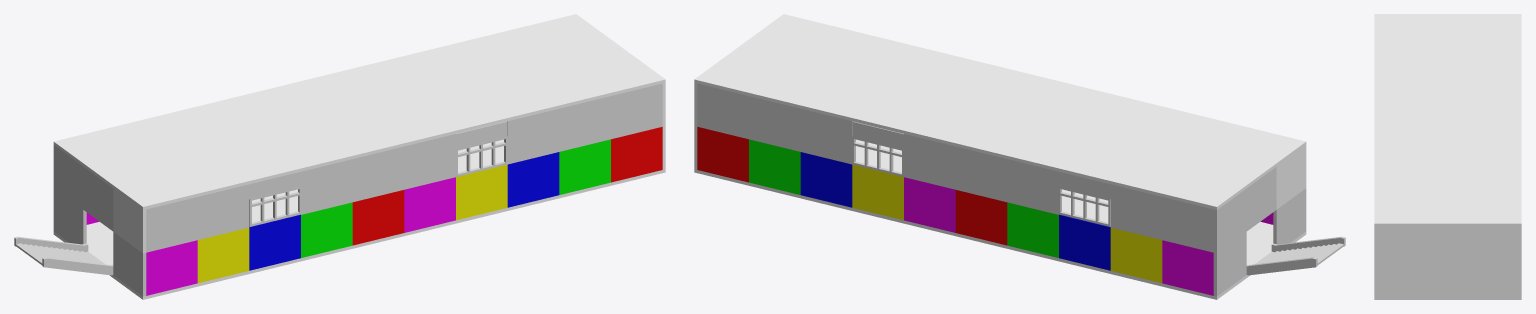
The model's file is corridor.gltf.
3 views of the same model, side by side, from view 1: azimuth 30°, elevation 25°; view 2: azimuth 150°, elevation 25°; view 3: azimuth 270°, elevation 25° (orthographic). The views are drawn at different scales.
Visible parts, largest first — view 1: Cube.068, Cube.067, Cube.006, Cube.060, Cube.003, Cube.061, Cube.013, Cube.028, Cube.004, Cube.014, Cube.002, Cube.011 (+19 smaller); view 2: Cube.068, Cube.067, Cube.058, Cube.082, Cube.053, Cube.075, Cube.007, Cube.021, Cube.081, Cube.020, Cube.008, Cube.010 (+19 smaller); view 3: Cube.068, Cube.024.
Boxes of the visible parts, box(x1,y1,x2,y2) form: Cube.068: box(53, 15, 662, 209); Cube.067: box(53, 139, 662, 299); Cube.006: box(352, 190, 404, 245); Cube.060: box(197, 184, 249, 239); Cube.003: box(197, 227, 249, 283); Cube.061: box(352, 146, 404, 202); Cube.013: box(507, 109, 559, 164); Cube.028: box(507, 152, 559, 207); Cube.004: box(249, 214, 300, 270); Cube.014: box(559, 96, 610, 151); Cube.002: box(146, 240, 197, 295); Cube.011: box(404, 134, 455, 189); Cube.068: box(697, 15, 1306, 209); Cube.067: box(697, 139, 1306, 299); Cube.058: box(1110, 184, 1162, 239); Cube.082: box(955, 190, 1007, 245); Cube.053: box(955, 146, 1007, 202); Cube.075: box(1110, 227, 1162, 283); Cube.007: box(800, 152, 852, 207); Cube.021: box(800, 109, 852, 164); Cube.081: box(1059, 214, 1110, 270); Cube.020: box(749, 96, 800, 151); Cube.008: box(749, 139, 800, 194); Cube.010: box(904, 177, 955, 232); Cube.068: box(1374, 14, 1521, 222); Cube.024: box(1374, 222, 1521, 299).
Size of the model in its own units: 57.3 by 8.6 by 15.01.
